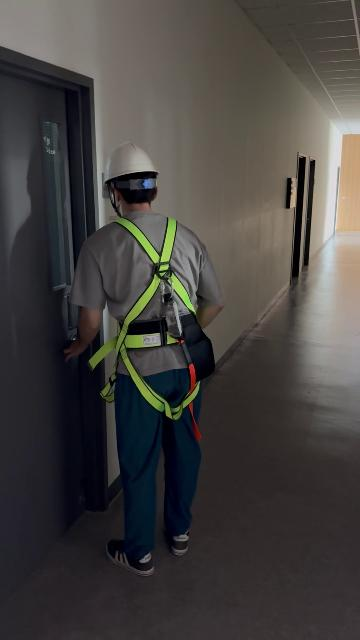helmet_worn: (98, 143, 161, 194)
shoe_not_worn: (105, 538, 157, 578), (166, 523, 197, 559)
vest_worn: (100, 217, 207, 412)
